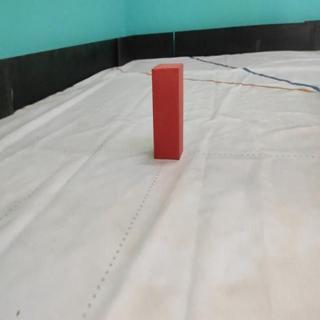redbox: (151, 62, 184, 158)
